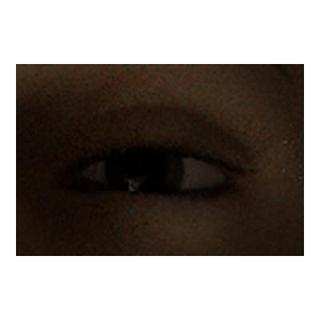pupil: (123, 150, 163, 190)
